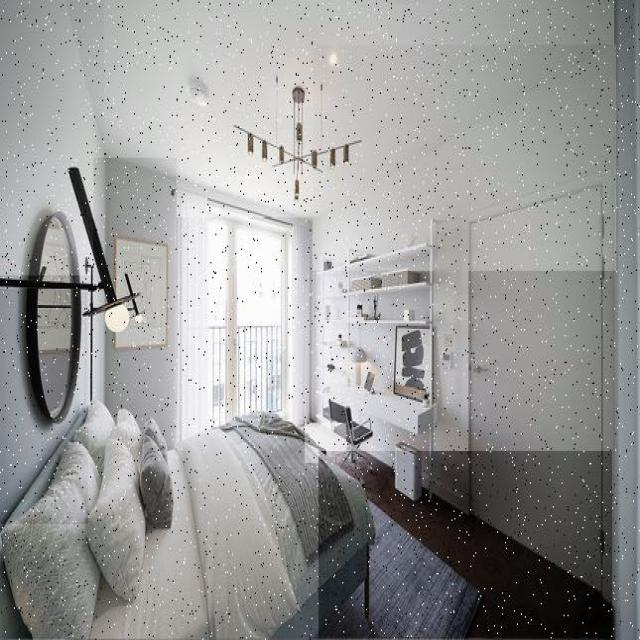Wall: (67, 0, 614, 217), (313, 45, 616, 271), (319, 451, 612, 639), (0, 0, 104, 275), (94, 158, 176, 447), (0, 290, 88, 524), (616, 0, 640, 637), (434, 217, 468, 512), (305, 423, 346, 463)
